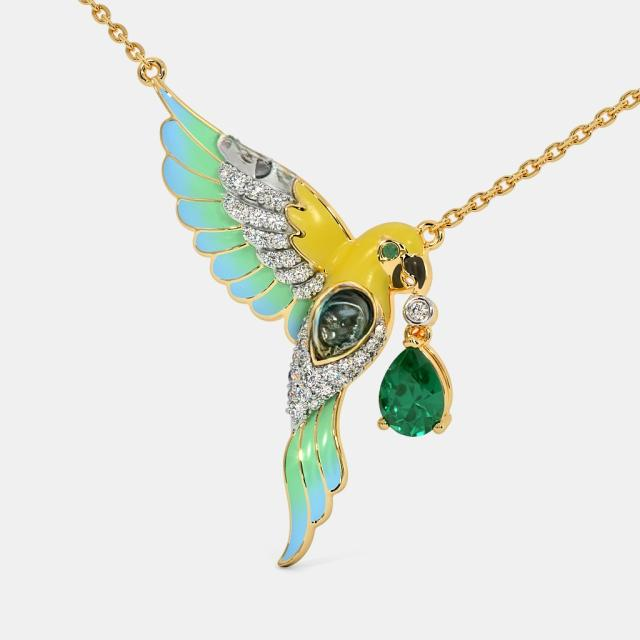missing gem: (219, 131, 297, 197), (311, 287, 374, 361)
